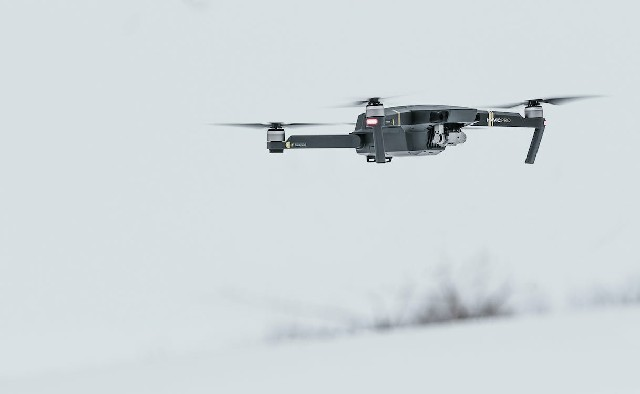maybay_khongnguoilai: (214, 85, 593, 174)
